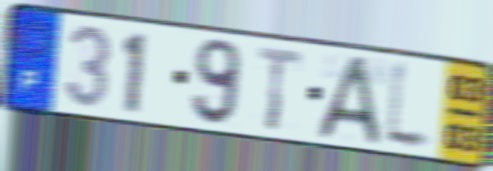1: (119, 29, 150, 115)
3: (62, 22, 113, 112)
9: (188, 36, 244, 128)
A: (314, 54, 384, 146)
L: (382, 55, 437, 158)
T: (255, 43, 306, 134)
